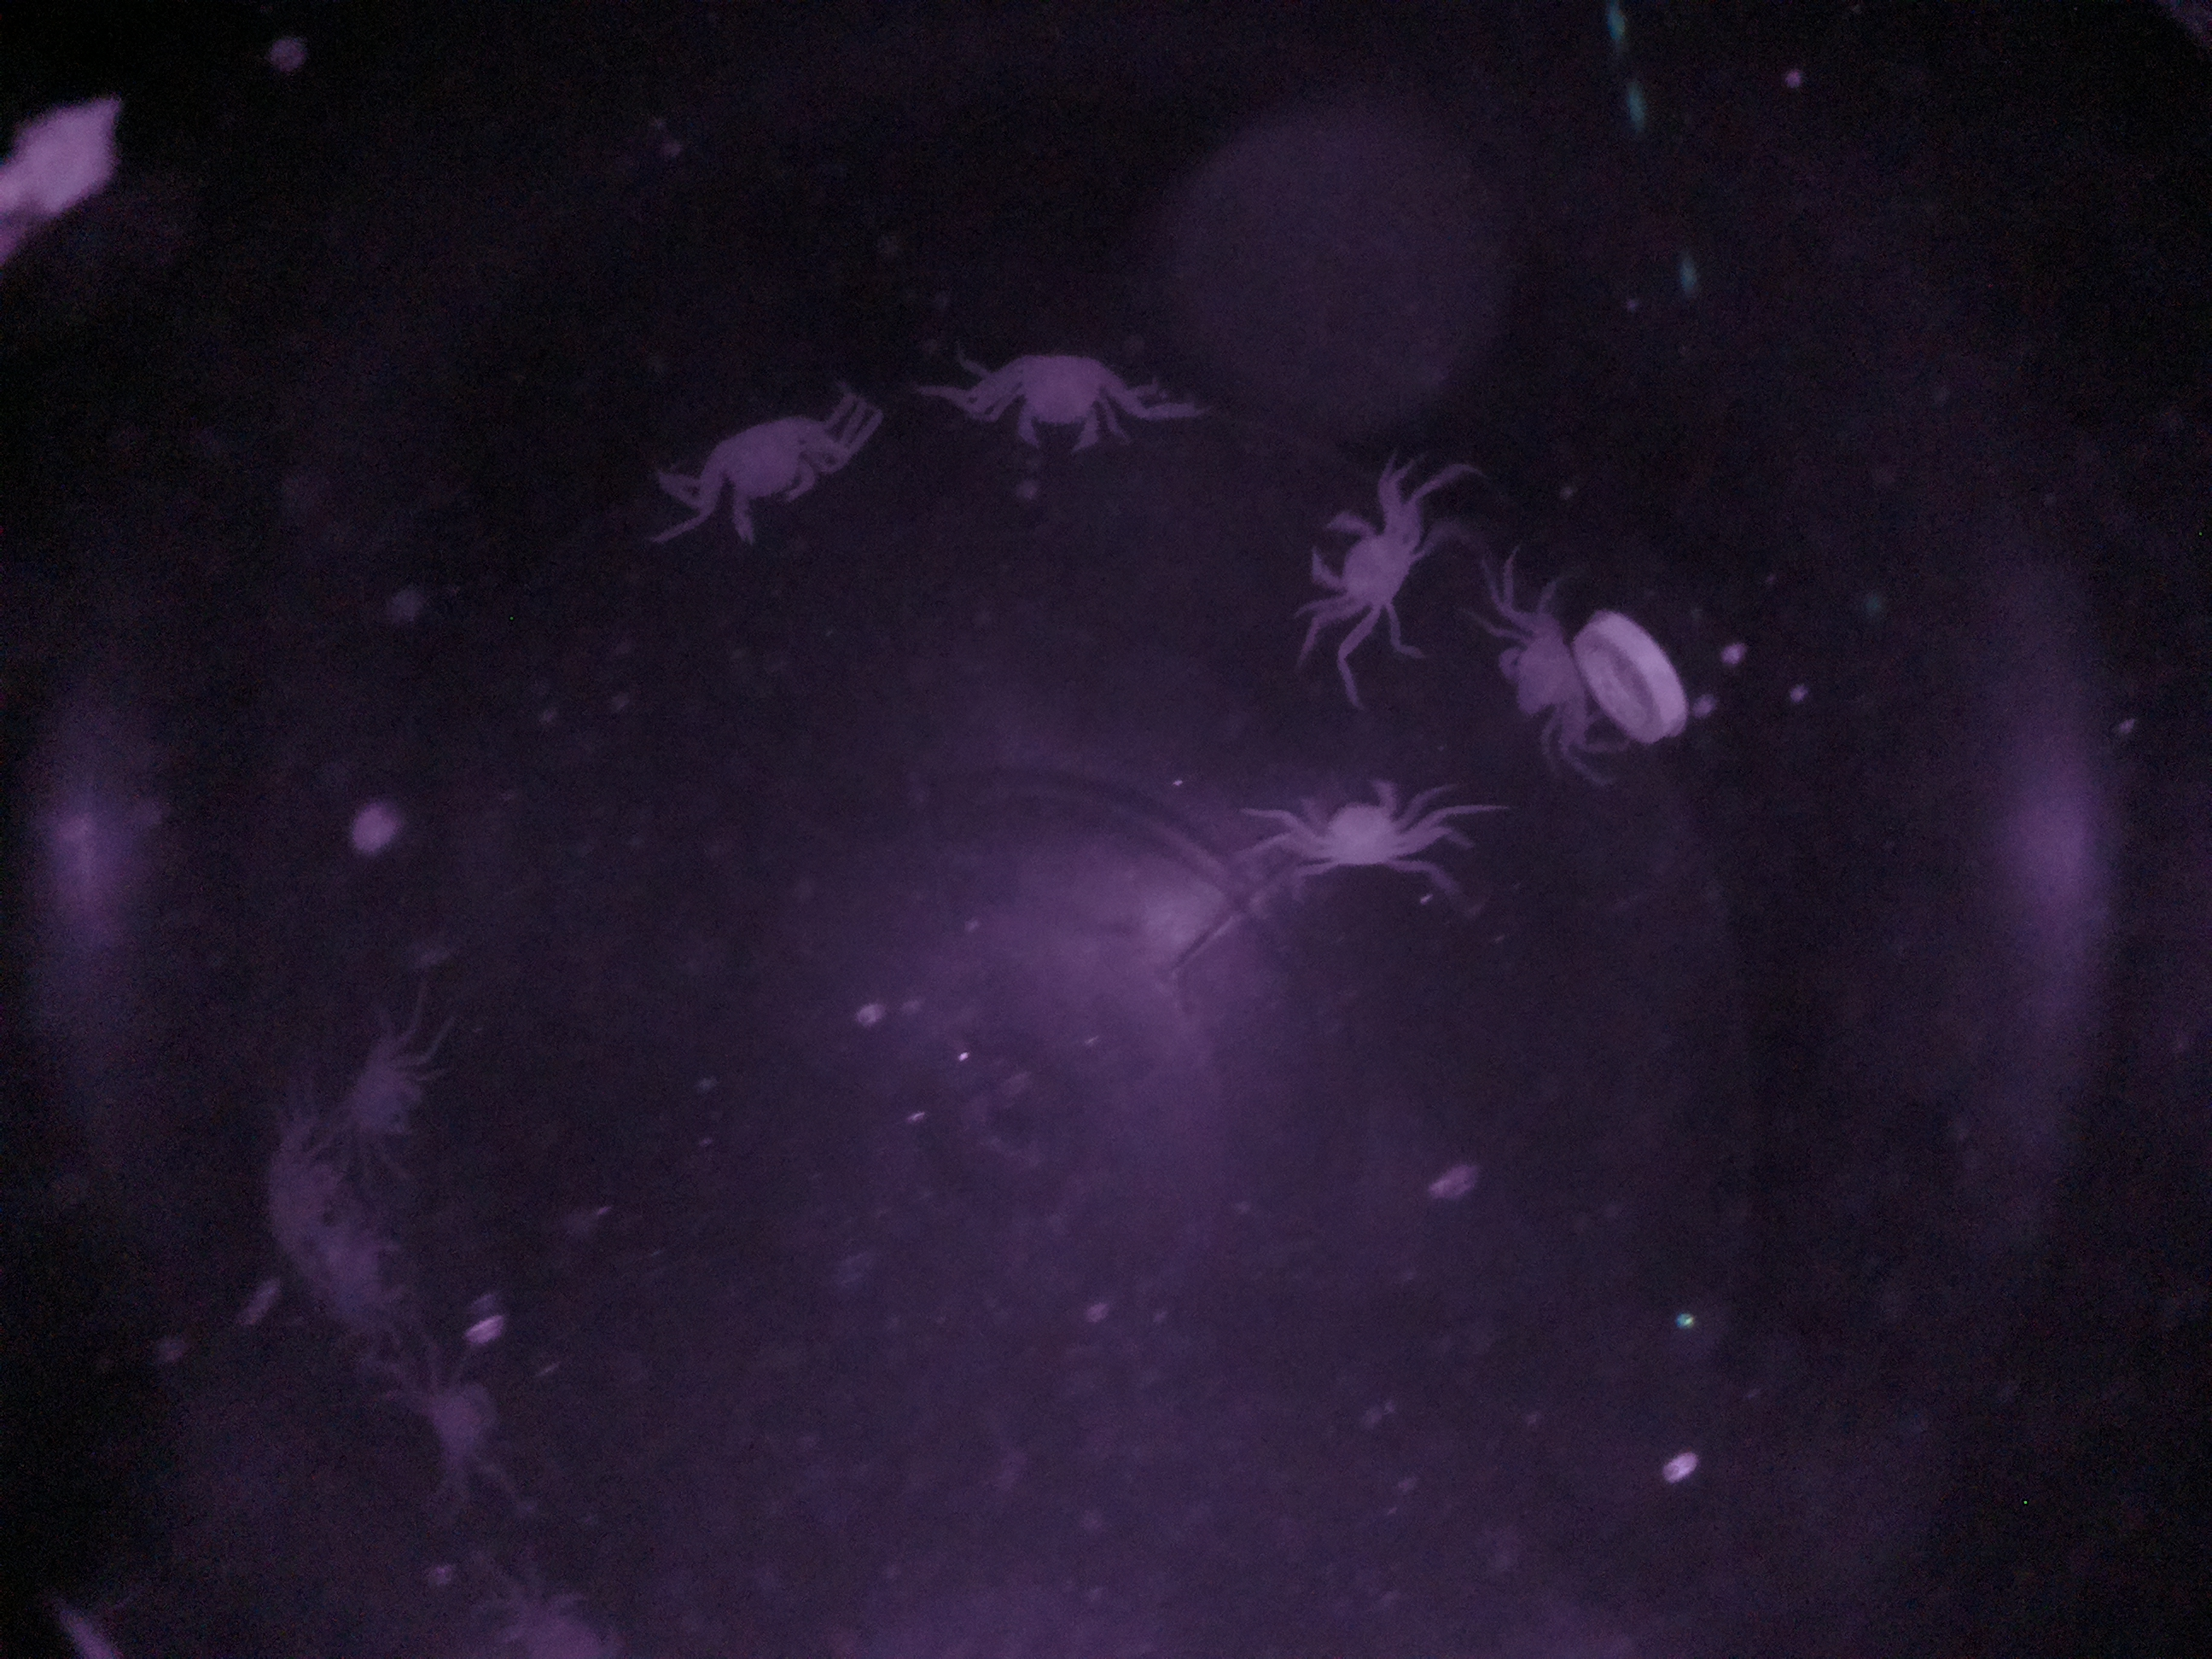Crab: (681, 396, 862, 584), (1263, 749, 1456, 910), (967, 328, 1148, 472), (1280, 483, 1437, 633), (312, 1009, 444, 1173), (1482, 606, 1613, 744)
